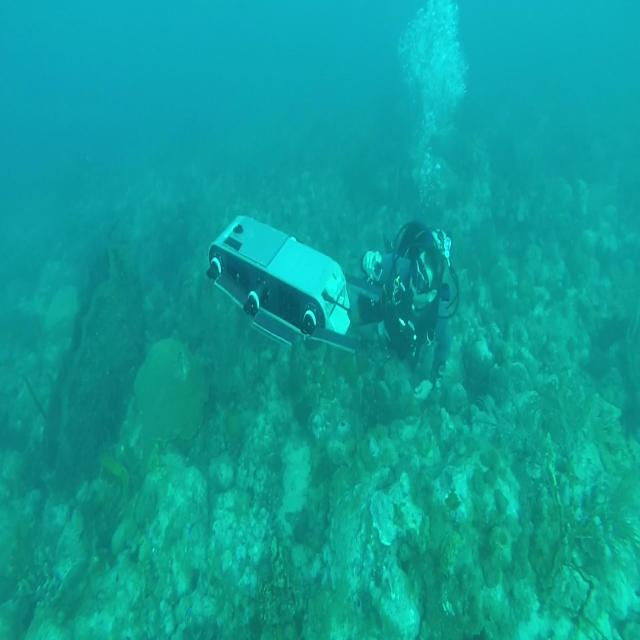human: (357, 219, 459, 398)
